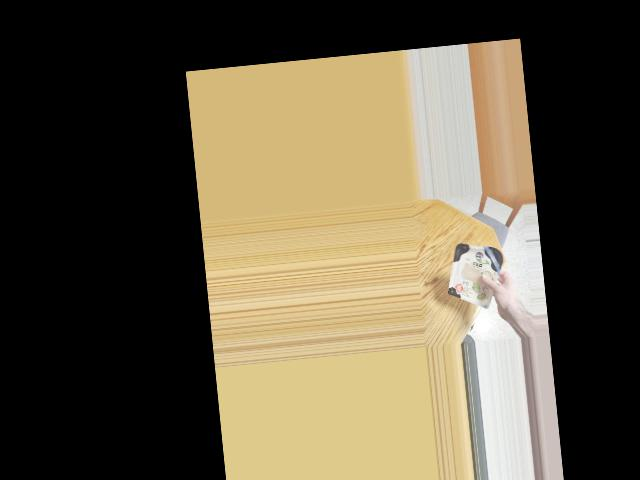cheese: (444, 237, 508, 301)
